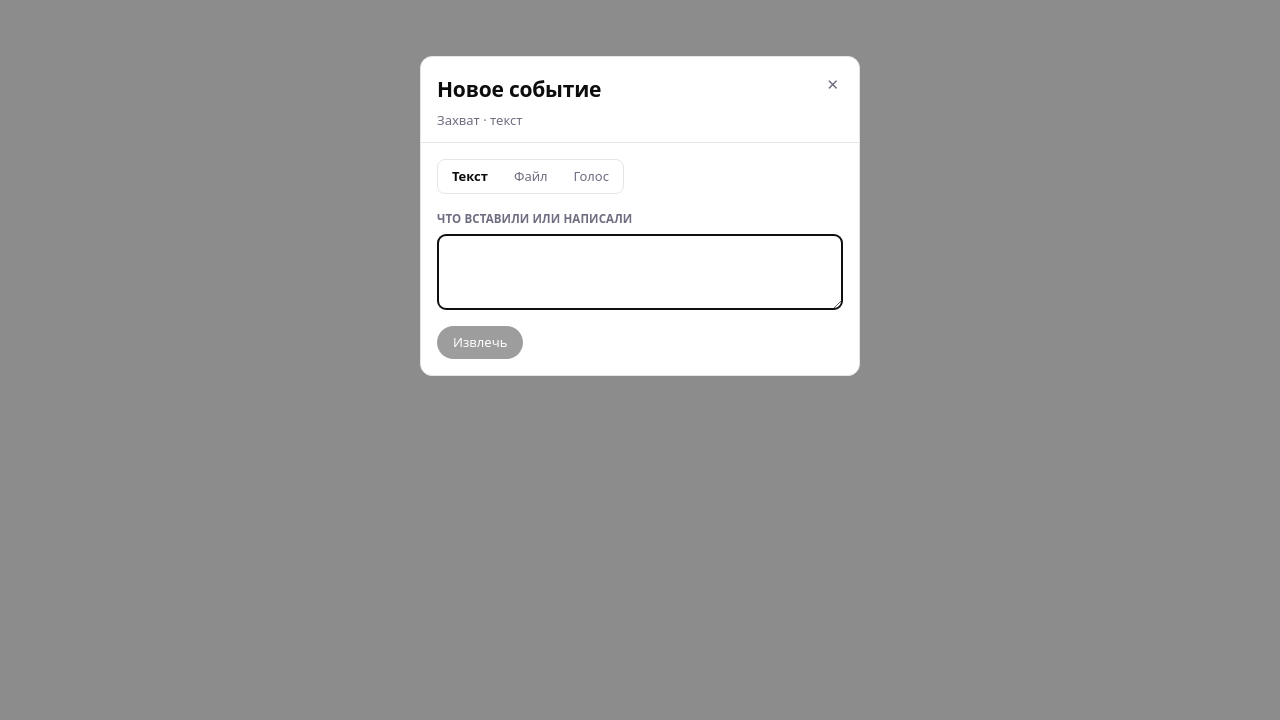
Test case: текст -> черновик -> подтверждение › разбор заполняет форму часами зоны owner
Type "встреча с куратором в четверг после физики" into the text box labelled "Что вставили или написали" at coordinates (640, 272), box [437,234,843,310]
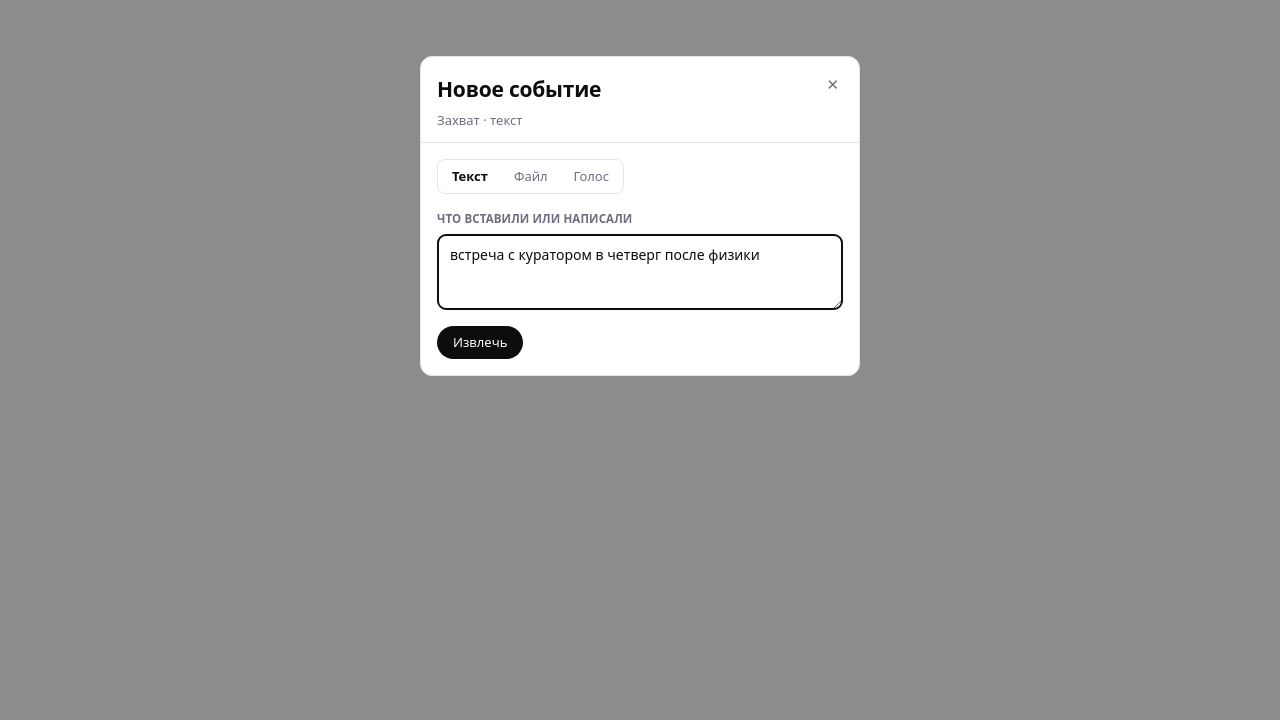
Click the button "Извлечь" at coordinates (480, 342), box [437,326,523,359]
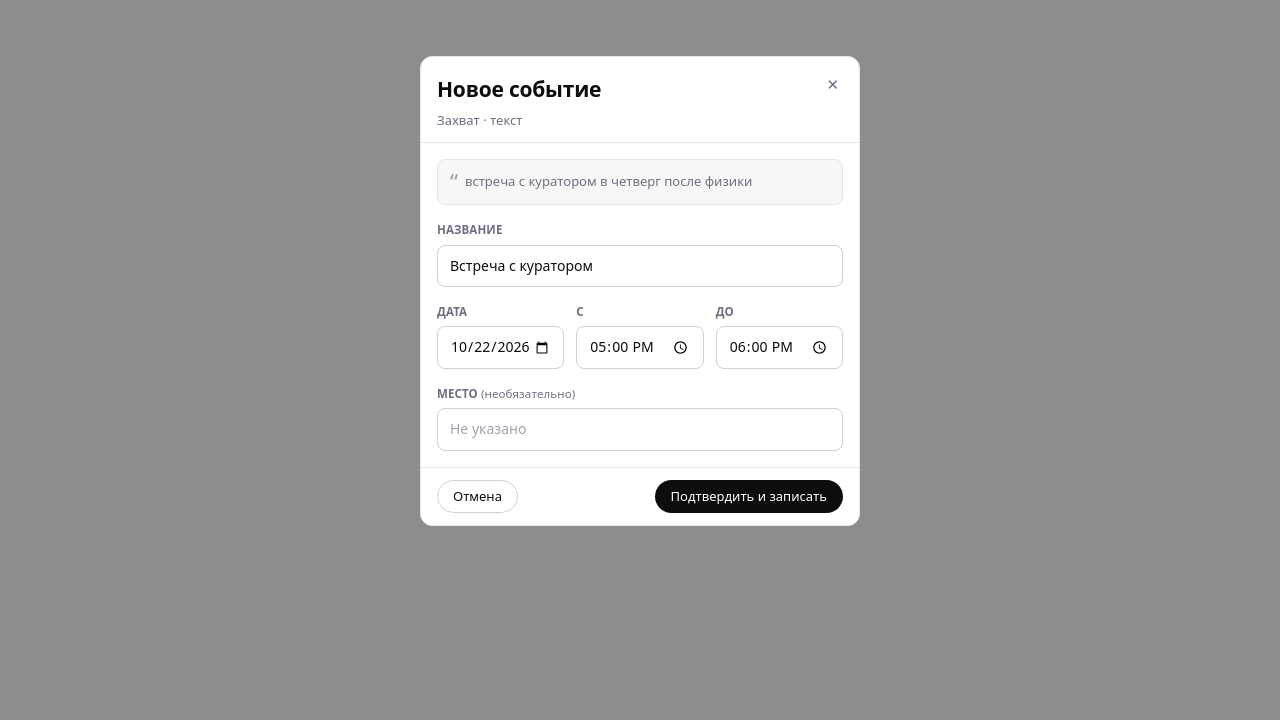
Expected: the field labelled "Название" holds "Встреча с куратором", [437,245,843,287]
Expected: the date field labelled "Дата" holds "2026-10-22", [437,326,564,369]
Expected: the time field labelled "С" holds "17:00", [576,326,704,369]
